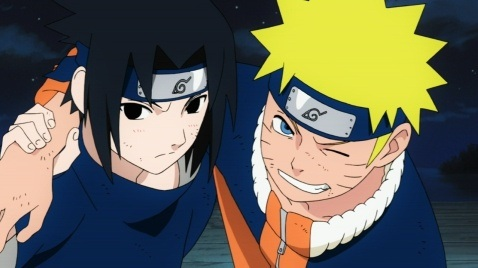naruto: (260, 64, 415, 204)
sasuke: (69, 65, 214, 176)
